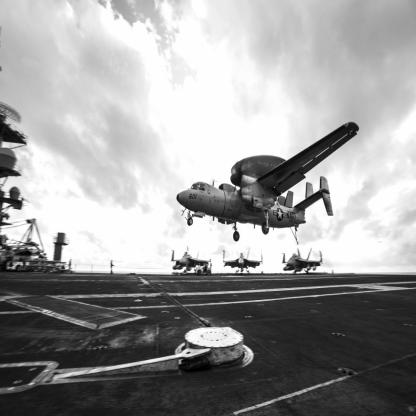E2: (177, 123, 360, 243)
F18: (172, 247, 212, 276), (223, 247, 264, 275), (283, 248, 323, 275)
